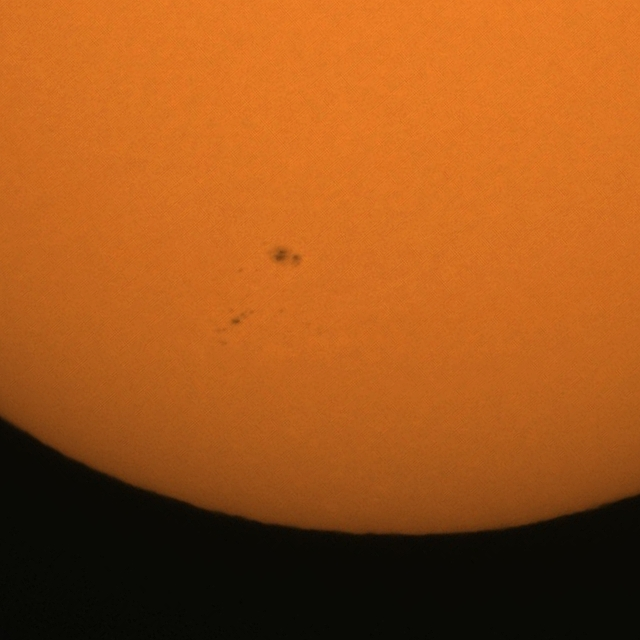sunspot: (273, 248, 302, 270), (229, 307, 254, 326)
